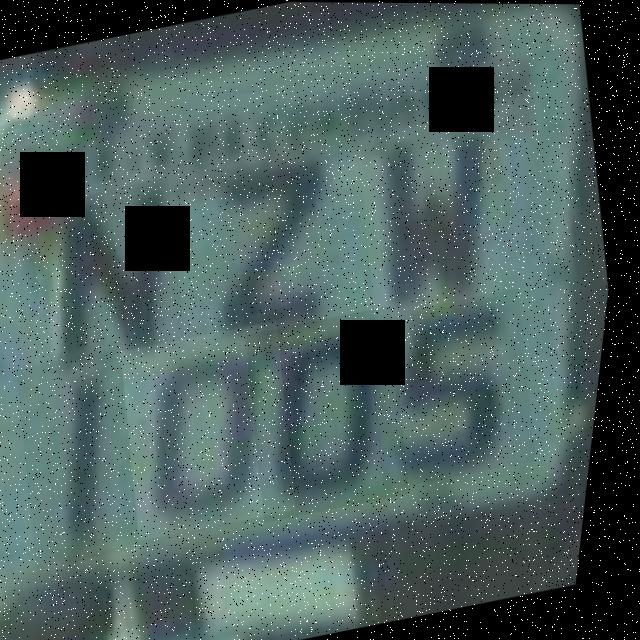0: (111, 319, 324, 541), (236, 304, 437, 523)
1: (7, 347, 170, 569)
5: (358, 286, 561, 491)
N: (344, 110, 525, 320), (22, 176, 208, 374)
Z: (185, 143, 367, 341)
